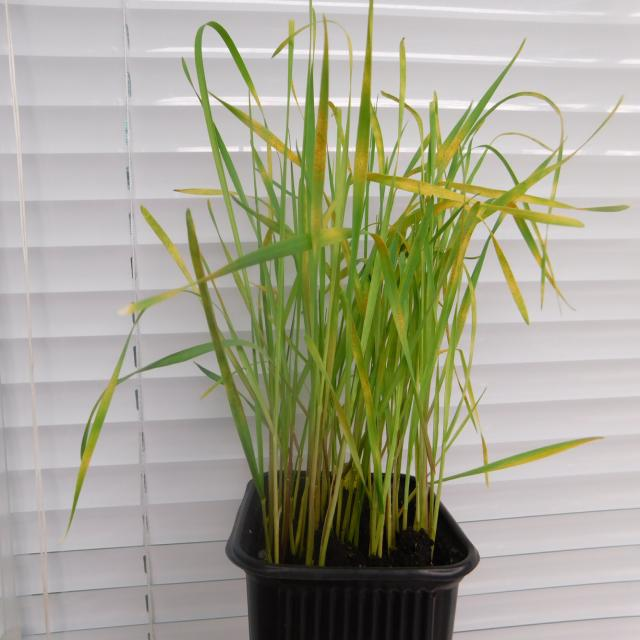wheat-yellowrust: (74, 347, 128, 514), (144, 212, 197, 283), (384, 282, 411, 354), (389, 176, 457, 202)
